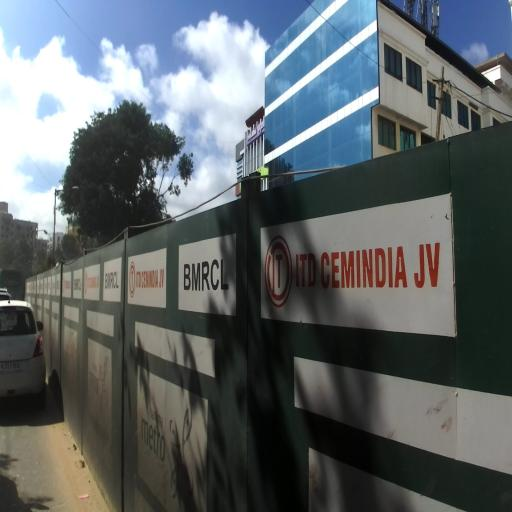street_light_0: (54, 184, 79, 194), (33, 230, 48, 235)
